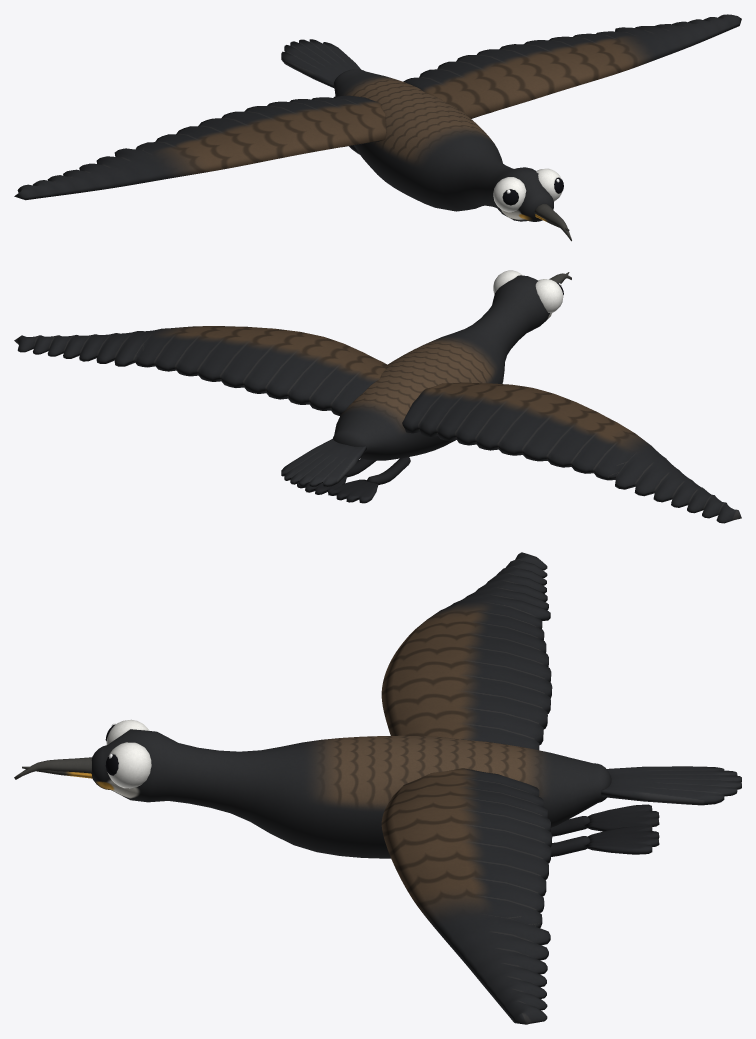
The model's file is Ave_Cormoran.fbx.
The picture shows the model from 3 angles, top to bottom: view 1: azimuth 30°, elevation 25°; view 2: azimuth 150°, elevation 25°; view 3: azimuth 270°, elevation 25°; orthographic projection. The views are drawn at different scales.
Visible parts, largest first — view 1: Cuerpo, R_wing, L_wing; view 2: Cuerpo, R_wing, L_wing; view 3: Cuerpo, L_wing, R_wing.
Boxes of the visible parts, bbox=[...] form: Cuerpo: bbox=[281, 39, 571, 241]; R_wing: bbox=[14, 95, 386, 200]; L_wing: bbox=[403, 14, 741, 118]; Cuerpo: bbox=[281, 270, 571, 503]; R_wing: bbox=[402, 382, 741, 523]; L_wing: bbox=[14, 326, 387, 415]; Cuerpo: bbox=[14, 719, 741, 858]; L_wing: bbox=[381, 768, 552, 1024]; R_wing: bbox=[381, 552, 552, 750].
Bounding box in the file's own units: 3.02 × 0.3555 × 1.98.
1 material, 1 textured.
